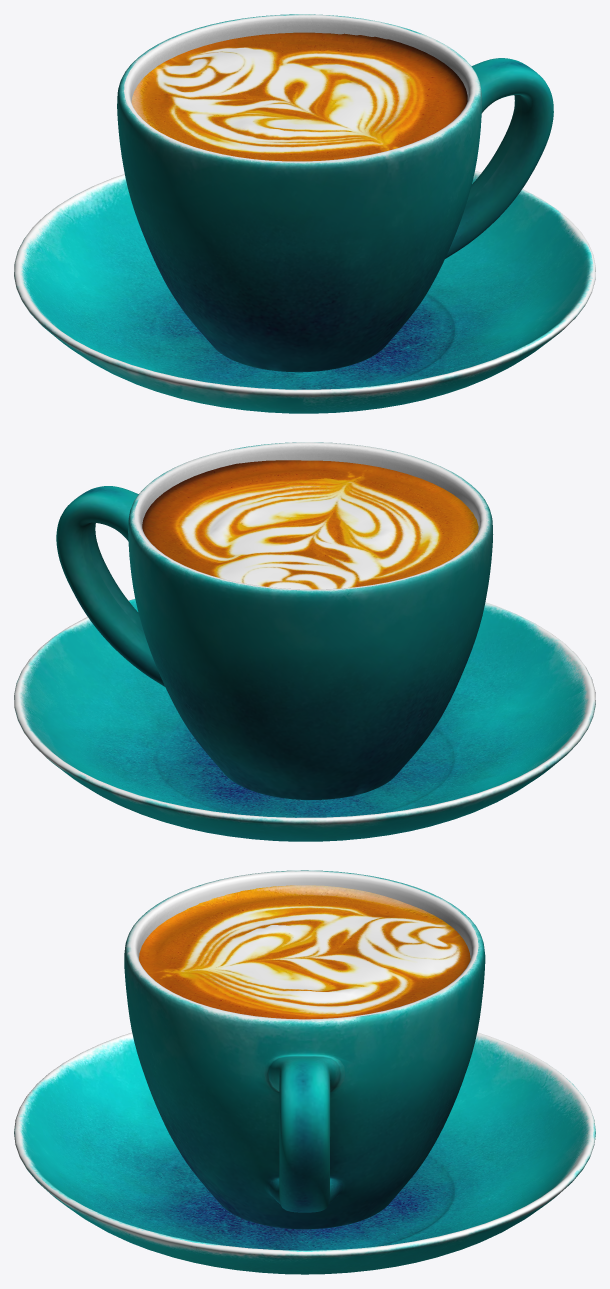
File: coffee_cup_with_plate_opt.glb
3 views of the same model, one above another, from view 1: azimuth 30°, elevation 25°; view 2: azimuth 150°, elevation 25°; view 3: azimuth 270°, elevation 25° (orthographic).
Parts seen in each view (by area): view 1: Object_7, Object_9, Object_5; view 2: Object_7, Object_9, Object_5; view 3: Object_7, Object_9, Object_5.
Boxes of the visible parts, x1=… form: Object_7: x1=117, y1=14, x2=553, y2=372; Object_9: x1=14, y1=170, x2=595, y2=413; Object_5: x1=131, y1=32, x2=467, y2=161; Object_7: x1=56, y1=442, x2=493, y2=799; Object_9: x1=14, y1=599, x2=595, y2=841; Object_5: x1=142, y1=460, x2=478, y2=589; Object_7: x1=124, y1=870, x2=485, y2=1229; Object_9: x1=14, y1=1032, x2=595, y2=1274; Object_5: x1=139, y1=885, x2=470, y2=1019.
Size of the model in its own units: 0.1525 by 0.0729 by 0.1525.
Materials: 3 (3 with a texture image).
